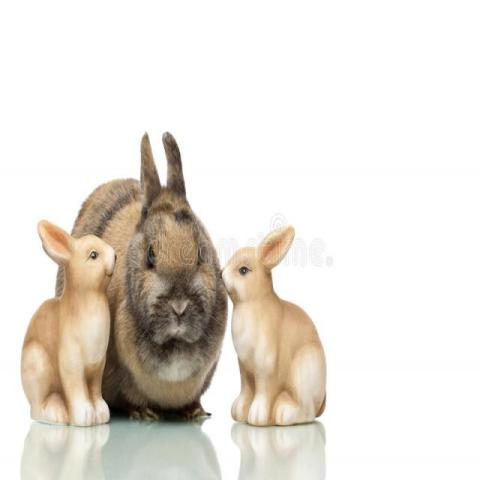small_animal: (62, 129, 229, 424), (218, 224, 330, 428), (18, 217, 118, 429)
